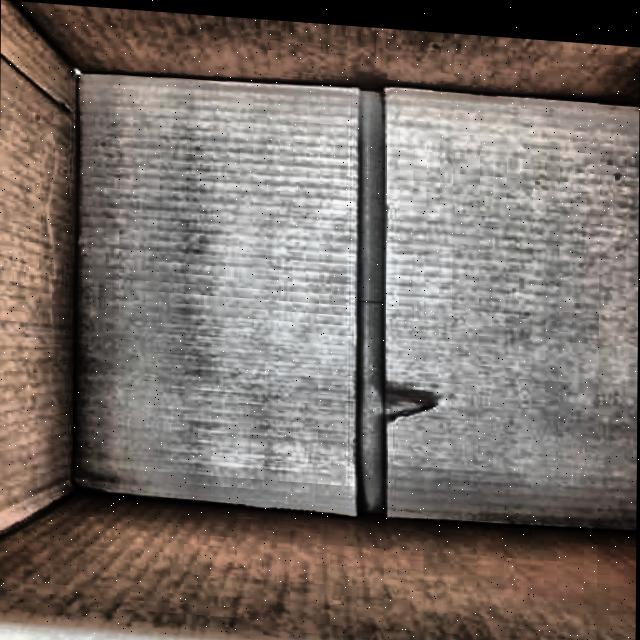cardboard: (380, 83, 639, 537)
